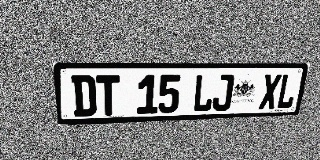1: (137, 75, 159, 114)
5: (158, 75, 181, 113)
D: (71, 75, 97, 117)
J: (212, 74, 235, 111)
L: (192, 74, 215, 112), (276, 74, 299, 109)
T: (96, 75, 120, 116)
X: (258, 74, 282, 109)
